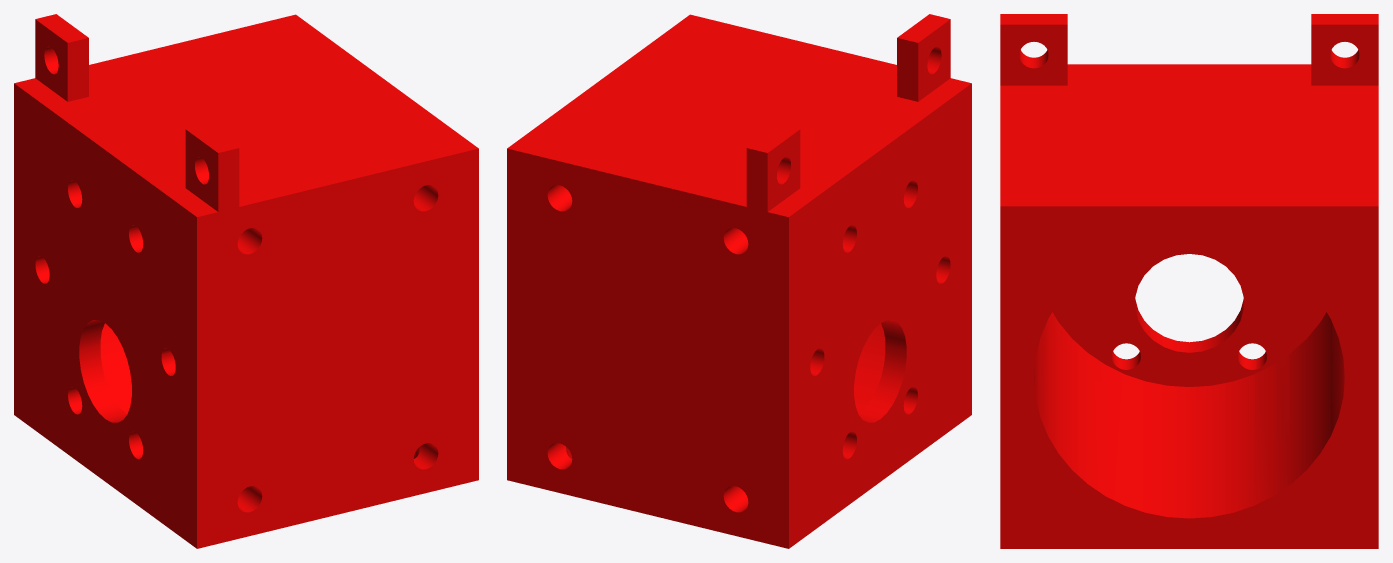
The model's file is support_moteur_wakanda_2.dae.
3 views of the same model, side by side, from view 1: azimuth 30°, elevation 25°; view 2: azimuth 150°, elevation 25°; view 3: azimuth 270°, elevation 25° (orthographic). The views are drawn at different scales.
Visible parts, largest first — view 1: node0; view 2: node0; view 3: node0.
Boxes of the visible parts, box(x1,y1,x2,y2) form: node0: box(14, 14, 478, 548); node0: box(507, 14, 971, 548); node0: box(1000, 14, 1378, 548).
Size of the model in its own units: 0.04 by 0.053 by 0.045.
